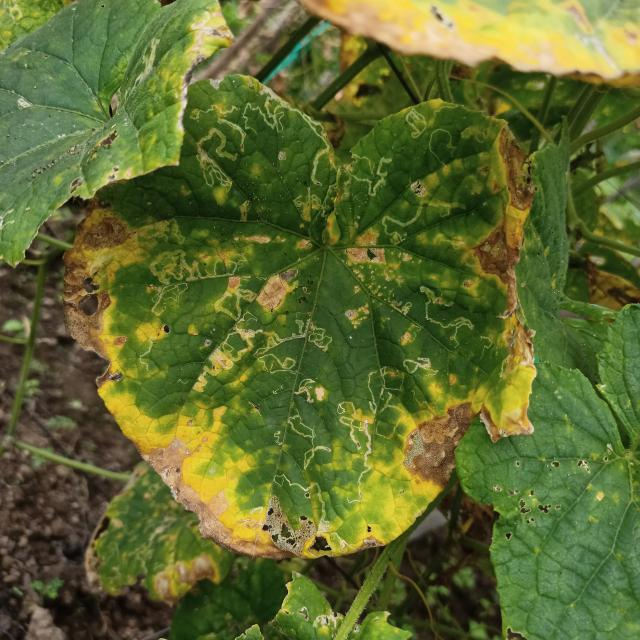disease_cucumber: (62, 200, 292, 517), (340, 352, 538, 552), (457, 125, 558, 437), (153, 432, 390, 564)
